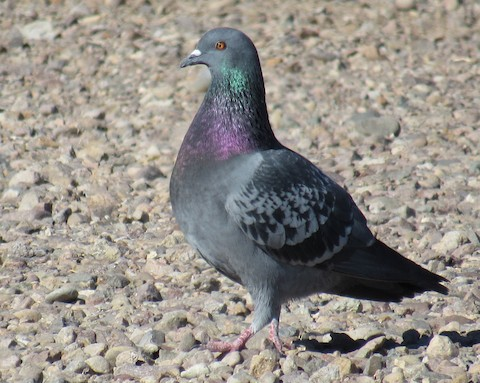pigeon: (164, 27, 455, 363)
